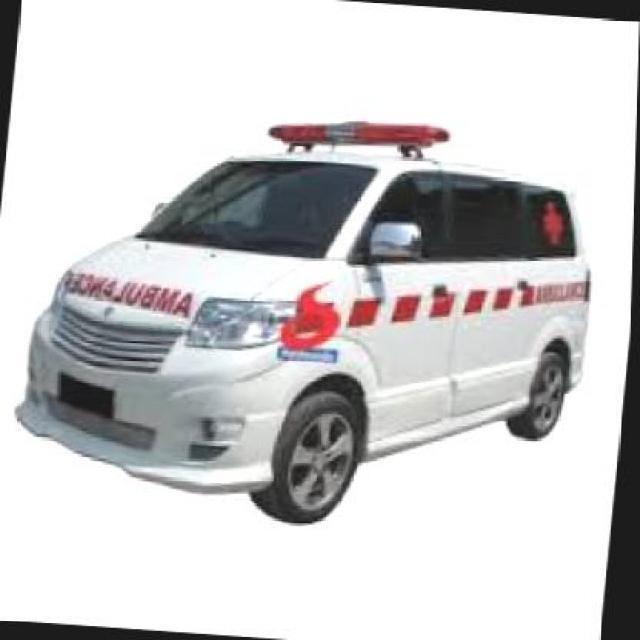emergency-vehicle: (5, 98, 609, 545)
